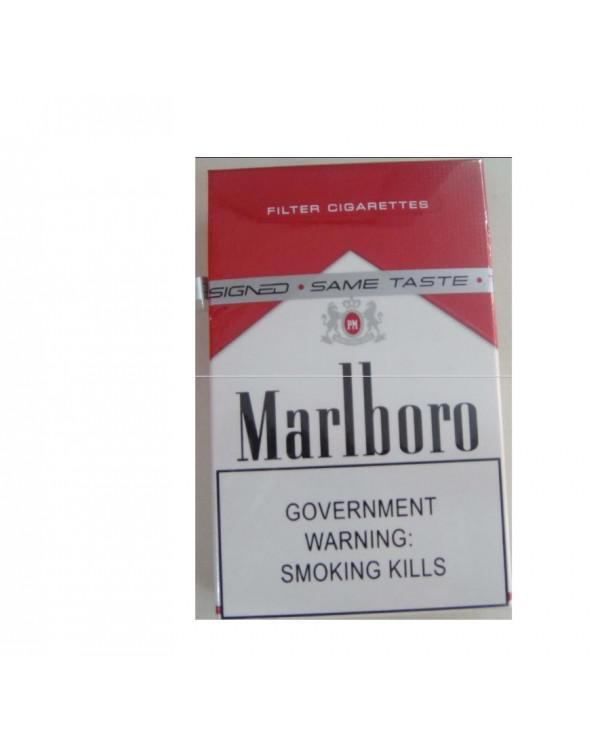marlboro_red: (219, 171, 488, 613)
